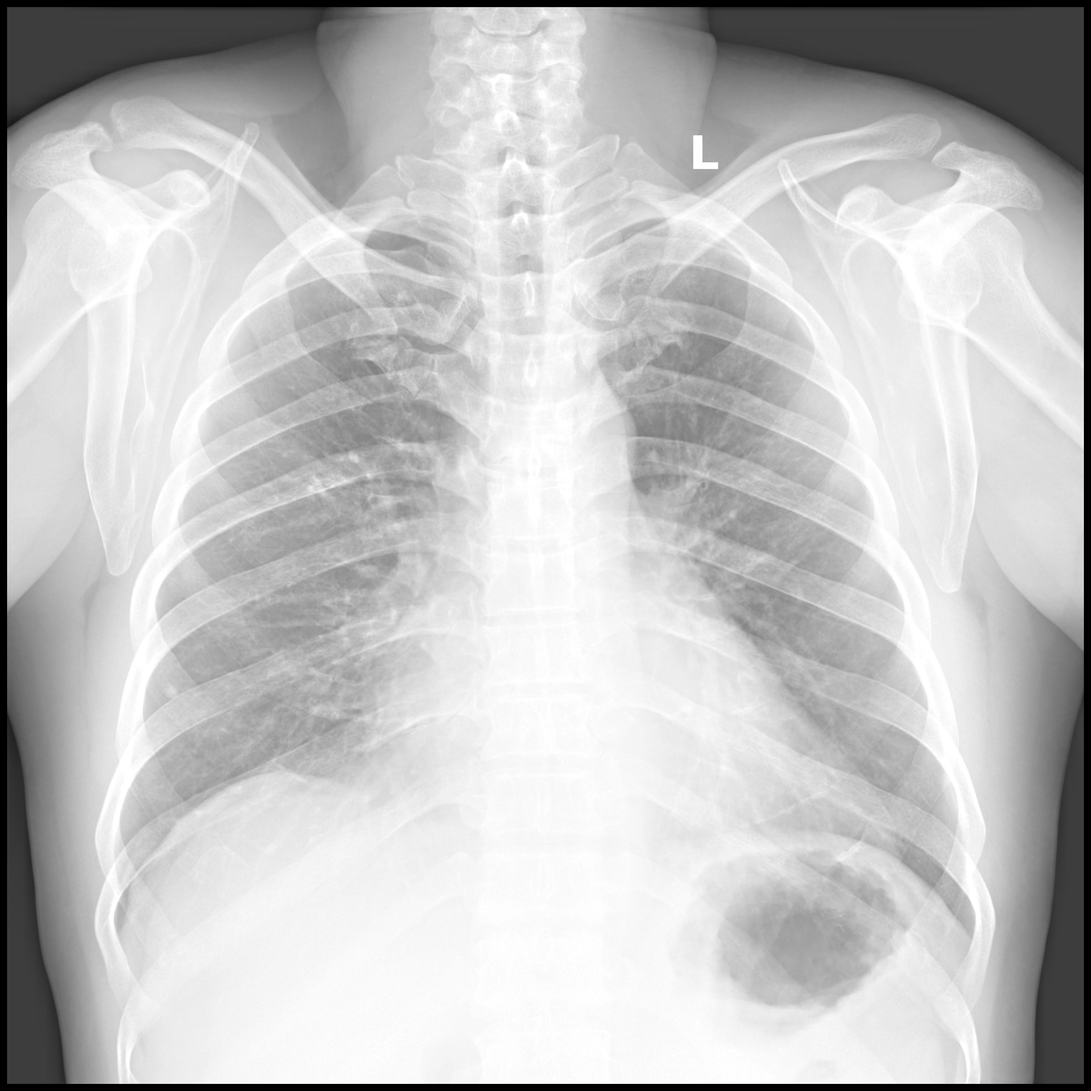Aortic enlargement: (531, 380, 640, 490)
Cardiomegaly: (361, 668, 904, 877)
Pulmonary fibrosis: (272, 761, 307, 783)
